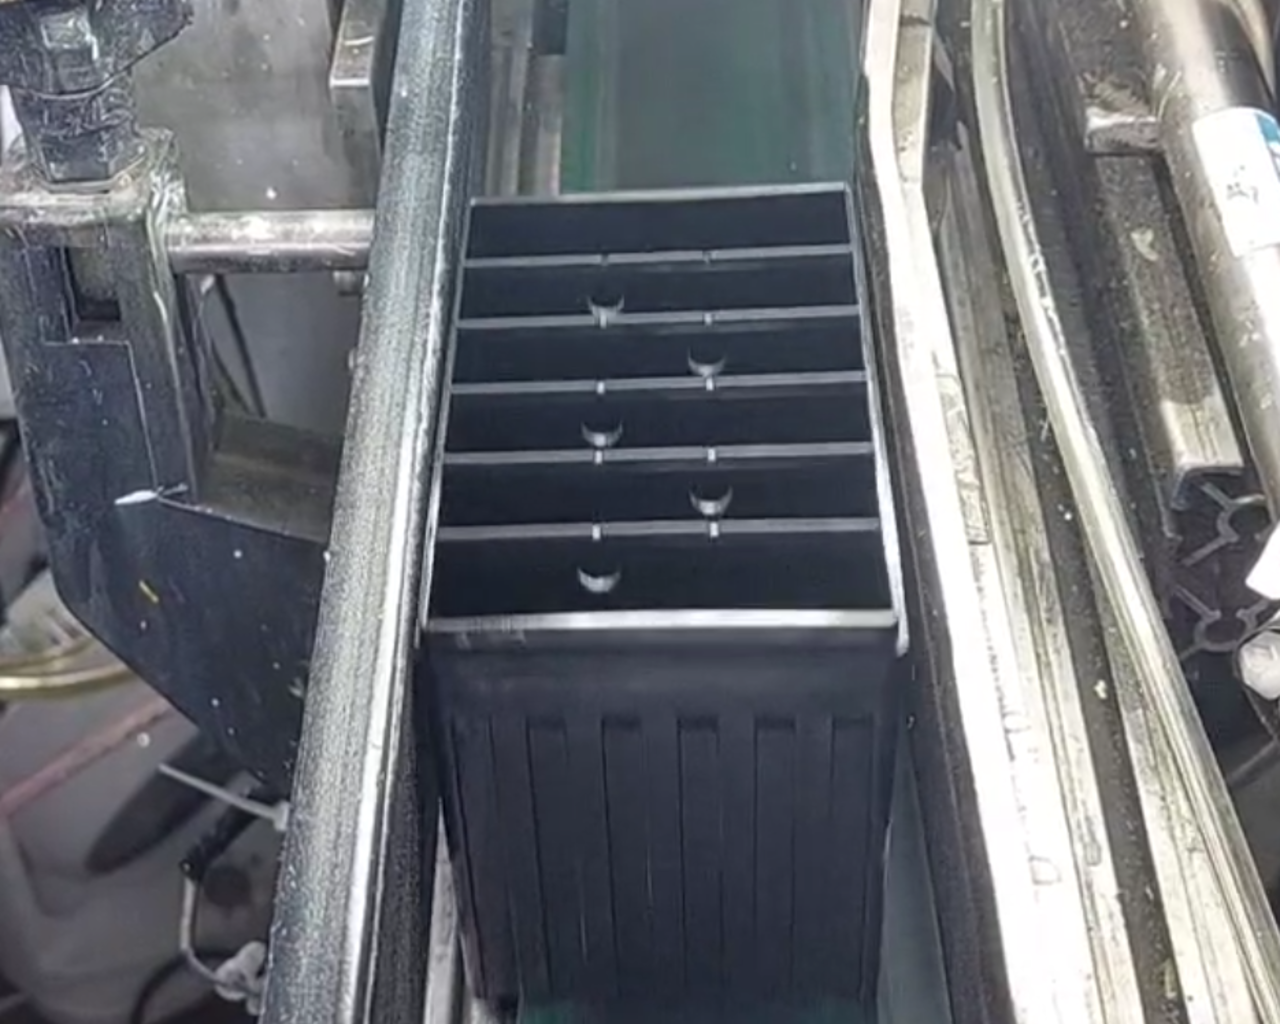box: (394, 163, 929, 671)
round: (559, 541, 638, 598), (567, 397, 639, 453), (677, 467, 749, 519), (574, 276, 637, 328), (679, 333, 738, 380)
